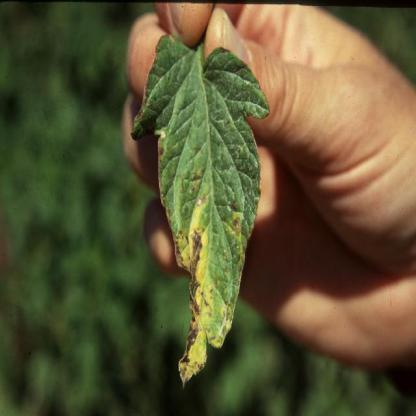Tomato leaf late blight: (130, 24, 273, 394)
